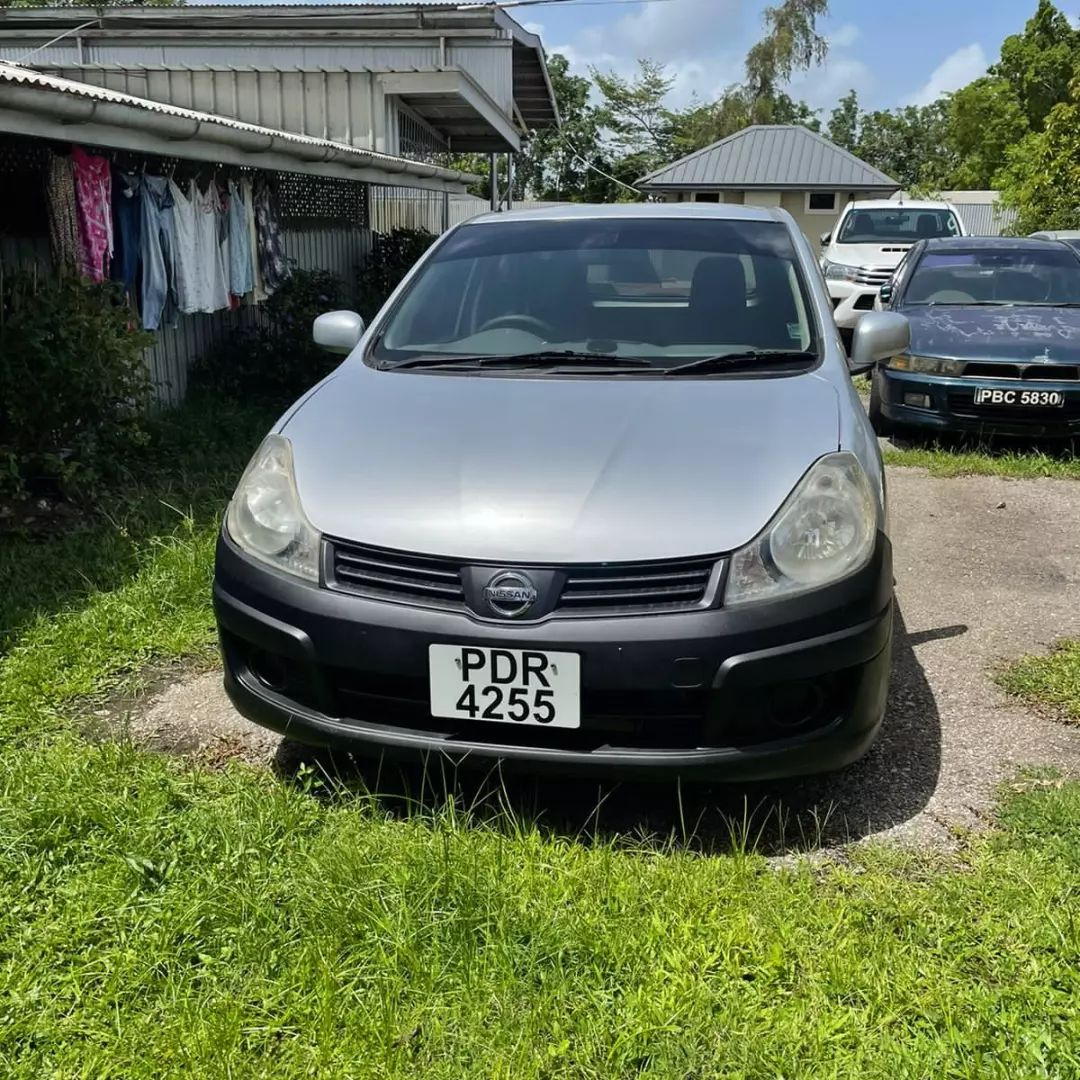License-Plate: (435, 642, 581, 717), (978, 388, 1062, 402)
